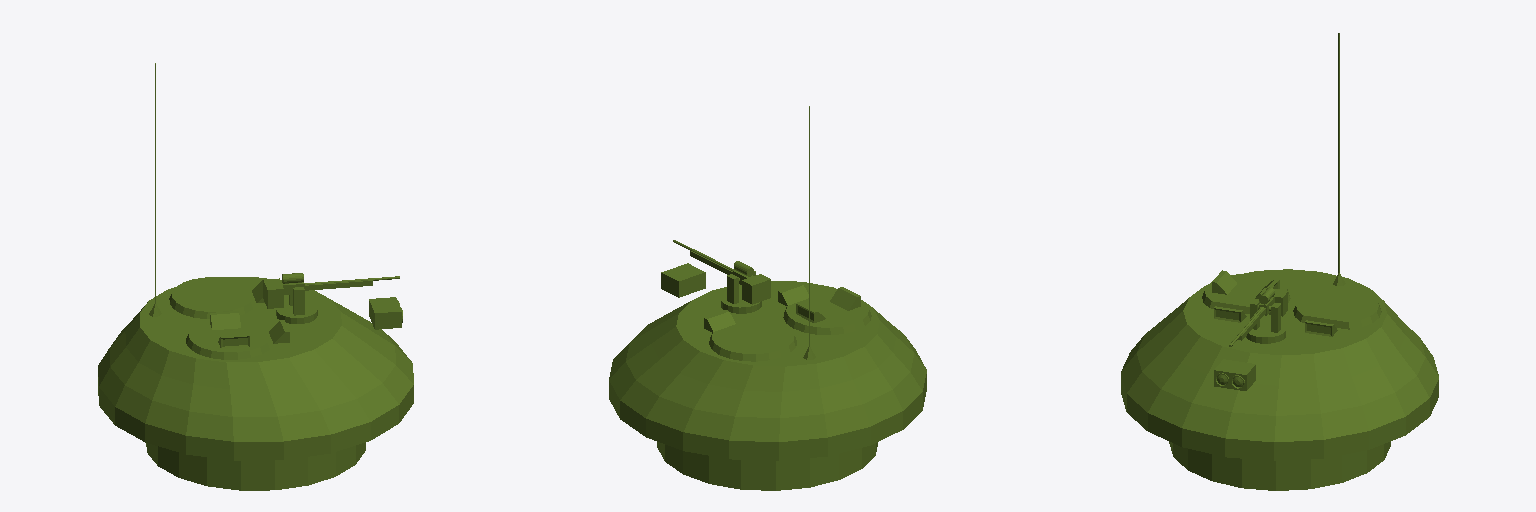
File: cap.obj
3 renders of one model, left to right at view 1: azimuth 30°, elevation 25°; view 2: azimuth 150°, elevation 25°; view 3: azimuth 270°, elevation 25°, orthographic.
Visible parts, largest first — view 1: Plane, kibuvo1.001, gpp, kibuvo1, tavmero; view 2: Plane, kibuvo1.001, gpp, kibuvo1, tavmero; view 3: Plane, kibuvo1.001, gpp, kibuvo1, tavmero, None_(null).
Boxes of the visible parts, box(x1,y1,x2,y2) form: Plane: box(98, 277, 413, 490); kibuvo1.001: box(169, 277, 252, 318); gpp: box(263, 273, 399, 323); kibuvo1: box(186, 318, 269, 359); tavmero: box(369, 297, 402, 329); Plane: box(609, 281, 926, 490); kibuvo1.001: box(709, 319, 796, 361); gpp: box(673, 240, 770, 313); kibuvo1: box(783, 293, 871, 334); tavmero: box(661, 263, 705, 297); Plane: box(1121, 269, 1438, 490); kibuvo1.001: box(1293, 288, 1381, 329); gpp: box(1229, 287, 1287, 346); kibuvo1: box(1202, 274, 1290, 313); tavmero: box(1214, 359, 1255, 390); None_(null): box(1333, 33, 1345, 285).
Size of the model in its own units: 2.3 by 2.99 by 2.3.